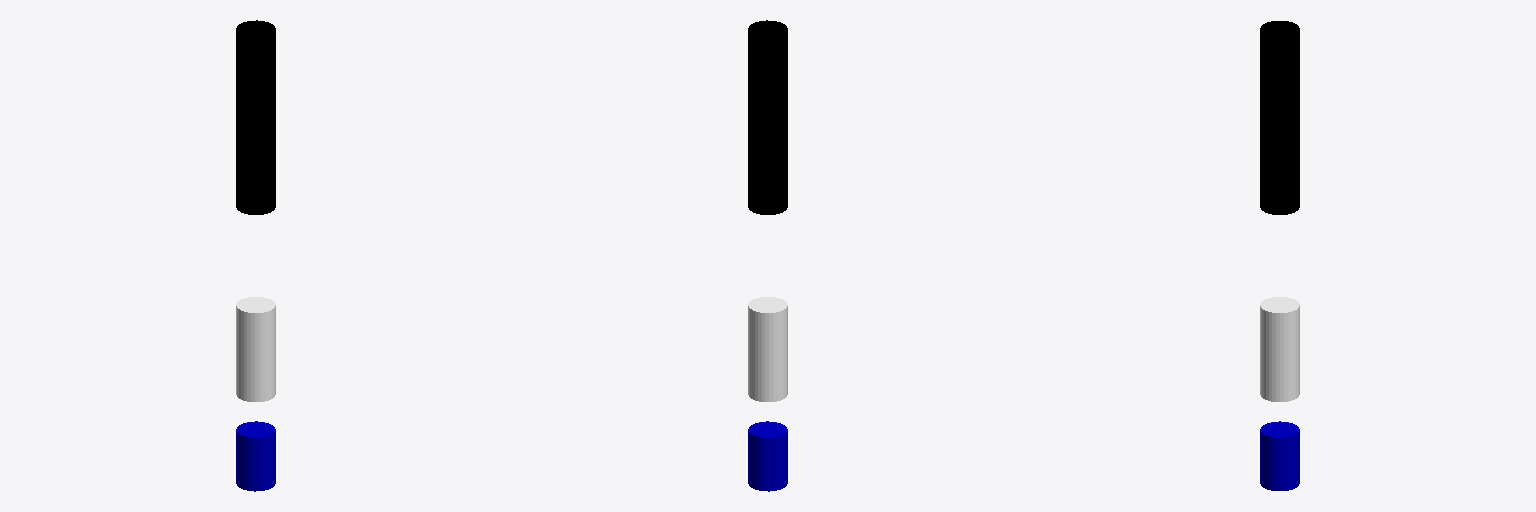
The robot description file, URDF, robot "1st_robot":
<robot name="1st_robot">
    <material name="blue">
        <color rgba="0.0 0.0 0.8 1.0"/>
    </material>
    <material name="black">
        <color rgba="0.0 0.0 0.0 1.0"/>
    </material>
    <material name="white">
        <color rgba="1.0 1.0 1.0 1.0"/>
    </material>

    <link name="fixed_base">
        <visual>
            <geometry>
                <cylinder length="0.6" radius="0.2"/>
            </geometry>
            <material name="blue"/>
        </visual>
    </link>
	
	<joint name="Revolute_joint_1" type="revolute">
        <origin xyz="0.0 0.0 0.6" rpy="0.0 0.0 0.0"/>
        <parent link="fixed_base"/>
        <child link="link_1"/>
        <axis xyz="0.0 0.0 0.0"/>
        <limit lower="0.0" upper="0.0" effort="0.0" velocity="0.0"/>
    </joint>
    <link name="link_1">
        <visual>
            <geometry>
                <cylinder radius="0.2" length="1.0"/>
            </geometry>
            <material name="white"/>
            <origin xyz="0.0 0.0 0.6" rpy="0.0 0.0 0.0"/>
        </visual>
    </link>
	<joint name="Revolute_joint_2" type="revolute">
        <origin xyz="0.0 0.0 1.6" rpy="0.0 0.0 0.0"/>
        <parent link="link_1"/>
        <child link="link_2"/>
        <axis xyz="0.0 0.0 0.0"/>
        <limit lower="0.0" upper="0.0" effort="0.0" velocity="0.0"/>
    </joint>
    <link name="link_2">
        <visual>
            <geometry>
                <cylinder radius="0.2" length="2.0"/>
            </geometry>
            <material name="black"/>
            <origin xyz="0.0 0.0 1.6" rpy="0.0 0.0 0.0"/>
        </visual>
    </link>

    
    
</robot>

--- Render facts (derived) ---
The picture shows the robot from 3 angles, left to right: view 1: azimuth 30°, elevation 25°; view 2: azimuth 150°, elevation 25°; view 3: azimuth 270°, elevation 25°; orthographic projection.
Model 1st_robot with 3 links and 2 joints (2 revolute), rooted at fixed_base, posed all joints at 0.
Visible links, largest first — view 1: link_2, link_1, fixed_base; view 2: link_2, link_1, fixed_base; view 3: link_2, link_1, fixed_base.
Link boxes in pixels (x1=…): link_2: x1=236, y1=20, x2=275, y2=214; link_1: x1=236, y1=297, x2=275, y2=401; fixed_base: x1=236, y1=421, x2=275, y2=491; link_2: x1=748, y1=20, x2=787, y2=214; link_1: x1=748, y1=297, x2=787, y2=401; fixed_base: x1=748, y1=421, x2=787, y2=491; link_2: x1=1260, y1=21, x2=1299, y2=214; link_1: x1=1260, y1=297, x2=1299, y2=401; fixed_base: x1=1260, y1=421, x2=1299, y2=490.
Size in the robot's own frame: 0.4 by 0.4 by 5.1 metres.
Geometry: primitives only (box / cylinder / sphere), no mesh files.